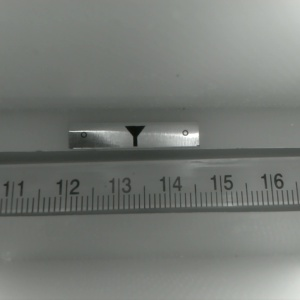1: (2, 180, 9, 197), (260, 173, 267, 189), (108, 178, 115, 194), (17, 181, 24, 197), (55, 180, 62, 195), (210, 175, 216, 191), (158, 177, 164, 192)
2: (69, 179, 80, 195)
3: (121, 178, 131, 193)
4: (172, 176, 182, 191)
5: (223, 175, 233, 190)
6: (273, 173, 283, 189)
finger: (123, 125, 145, 148)
